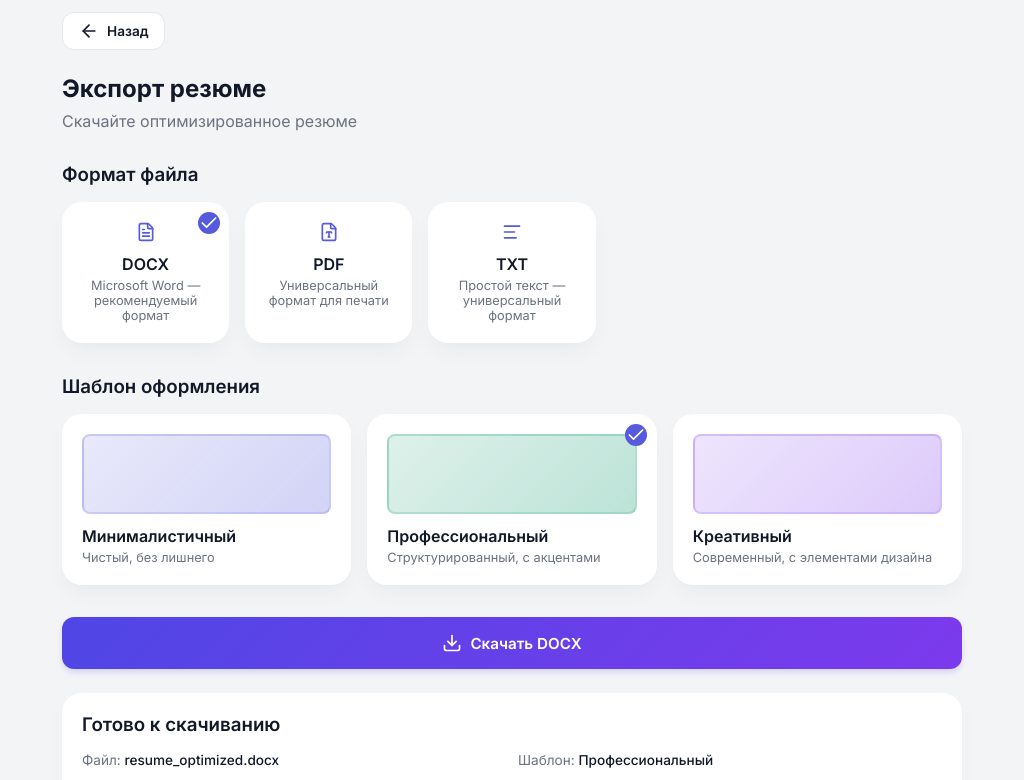
Test: ExportPage — Functional: Format selection › clicking PDF card changes button to "Скачать PDF"
The image size is (1024, 780).
Click the text "PDF": coordinates (329, 264) x1=313 y1=254 x2=344 y2=274
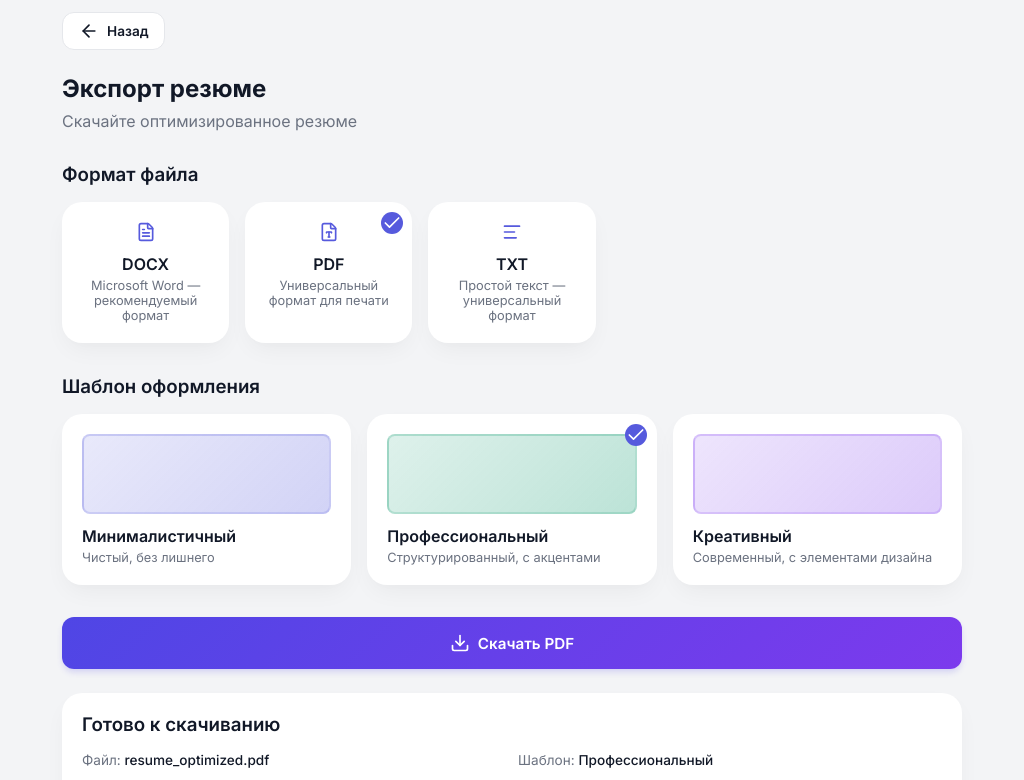
Expected: the button "Скачать PDF" is shown, x1=62 y1=617 x2=962 y2=669
